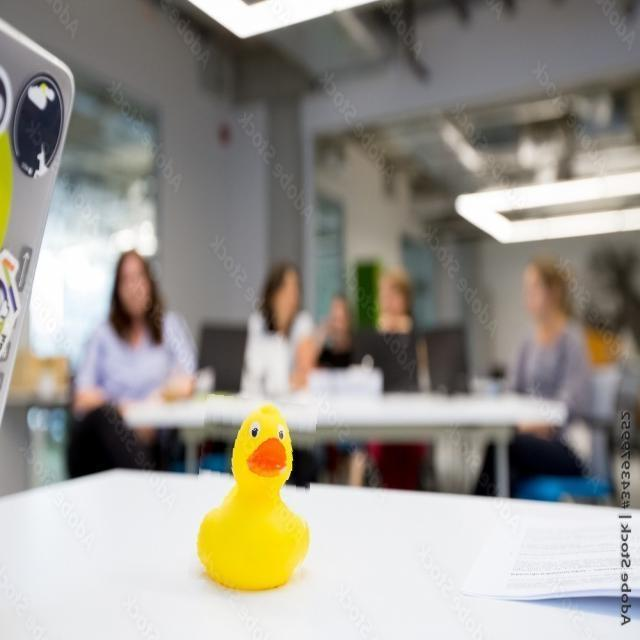rubber-duck: (197, 403, 307, 588)
